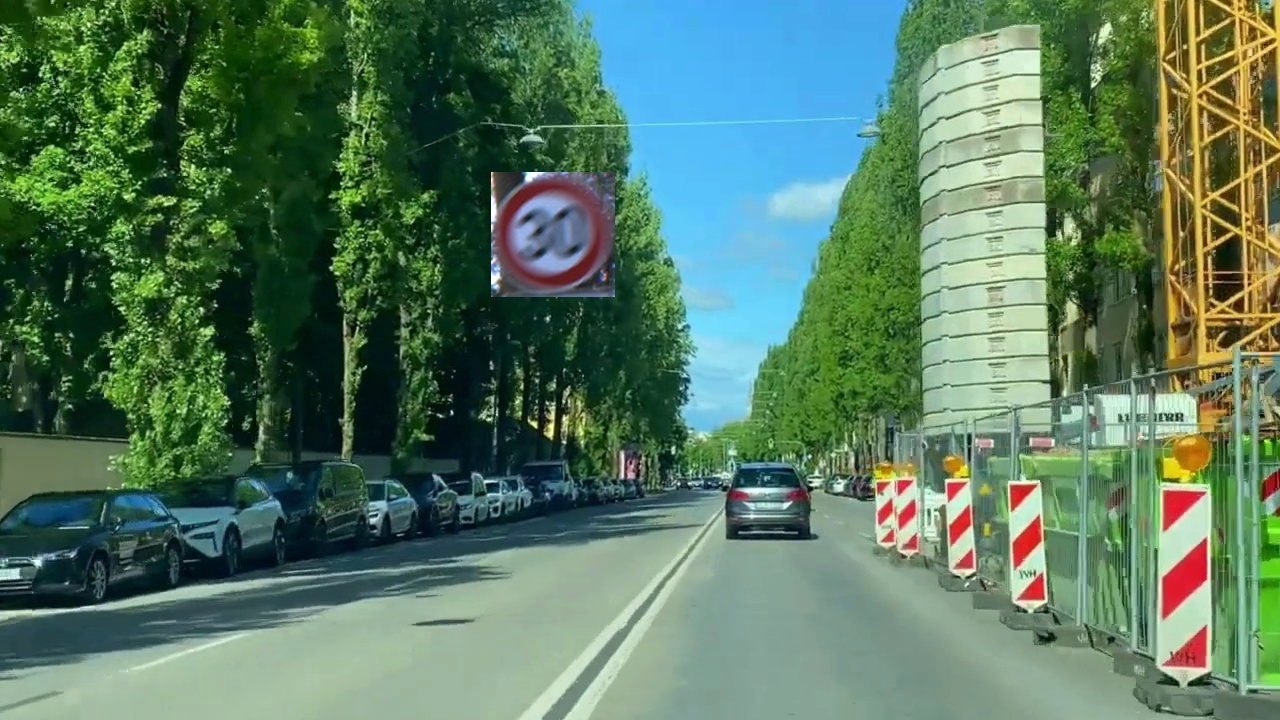Speed 30: (491, 172, 615, 297)
